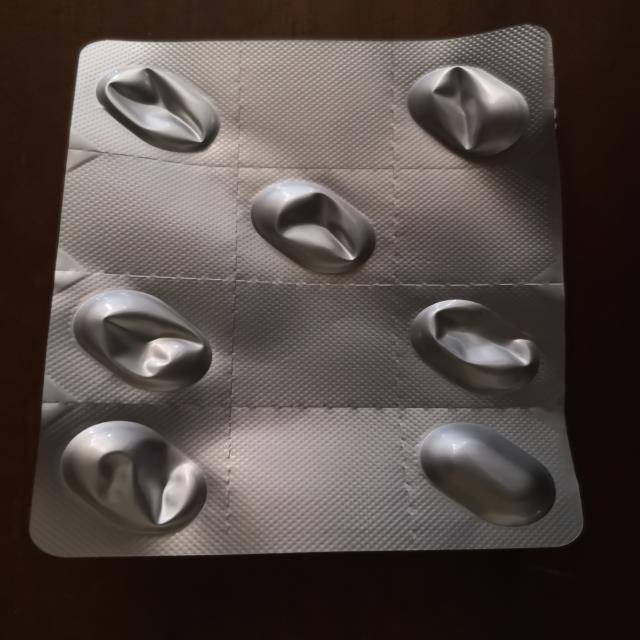Empty: (43, 413, 215, 539), (60, 284, 224, 398), (235, 171, 387, 279), (402, 292, 544, 405), (396, 56, 536, 163), (90, 53, 230, 158)
Pill: (408, 419, 566, 539)
